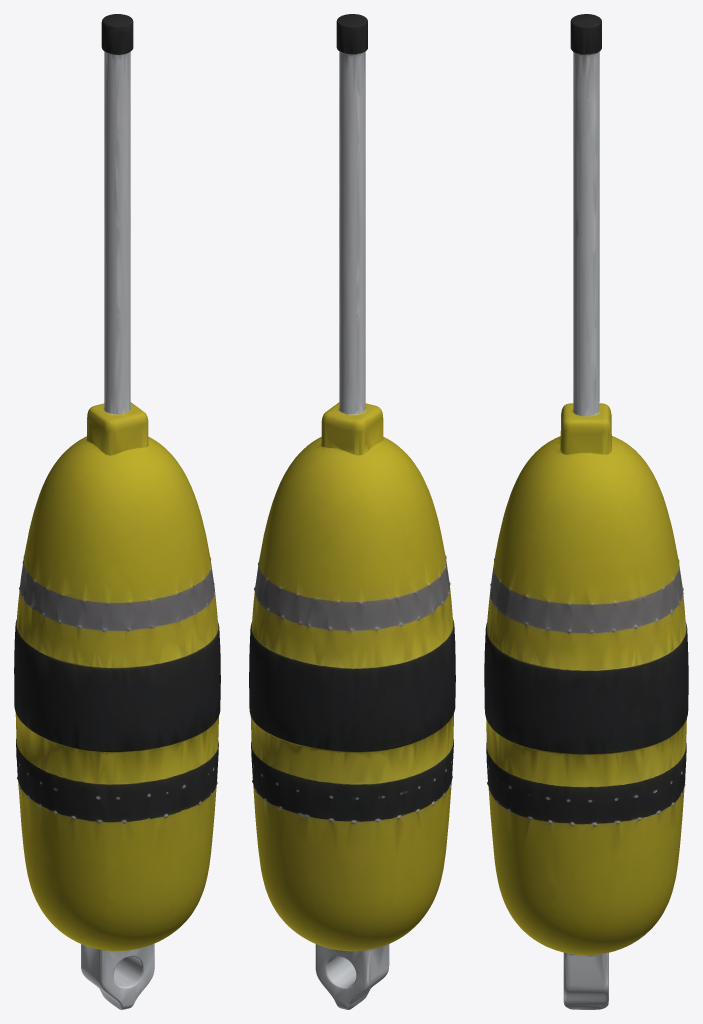
The model's file is float_waggler.glb.
3 views of the same model, side by side, from view 1: azimuth 30°, elevation 25°; view 2: azimuth 150°, elevation 25°; view 3: azimuth 270°, elevation 25° (orthographic).
Visible parts, largest first — view 1: Mesh_0; view 2: Mesh_0; view 3: Mesh_0.
Part boxes in pixels (<box>): Mesh_0: <box>14,14,220,1009</box>; Mesh_0: <box>249,14,455,1009</box>; Mesh_0: <box>484,14,688,1009</box>.
Size of the model in its own units: 0.3563 by 1.9 by 0.3566.
1 material, 1 textured.
